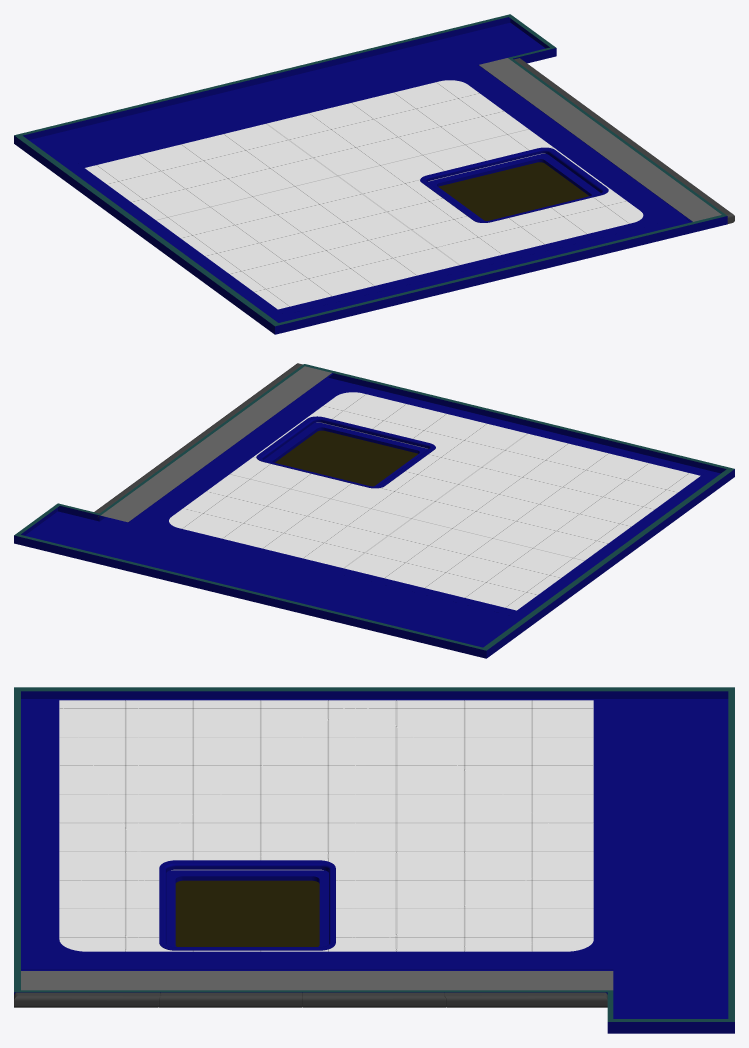
The model's file is FloatingAptFloors2_Mesh.fbx.
3 views of the same model, one above another, from view 1: azimuth 30°, elevation 25°; view 2: azimuth 150°, elevation 25°; view 3: azimuth 270°, elevation 25° (orthographic). The views are drawn at different scales.
Parts seen in each view (by area): view 1: FloatingAptFloors2_Mesh; view 2: FloatingAptFloors2_Mesh; view 3: FloatingAptFloors2_Mesh.
Boxes of the visible parts, x1,y1,x2,y2 form: FloatingAptFloors2_Mesh: (14, 14, 734, 334); FloatingAptFloors2_Mesh: (14, 363, 734, 658); FloatingAptFloors2_Mesh: (14, 687, 734, 1033).
Size of the model in its own units: 1141 by 19.05 by 1039.
